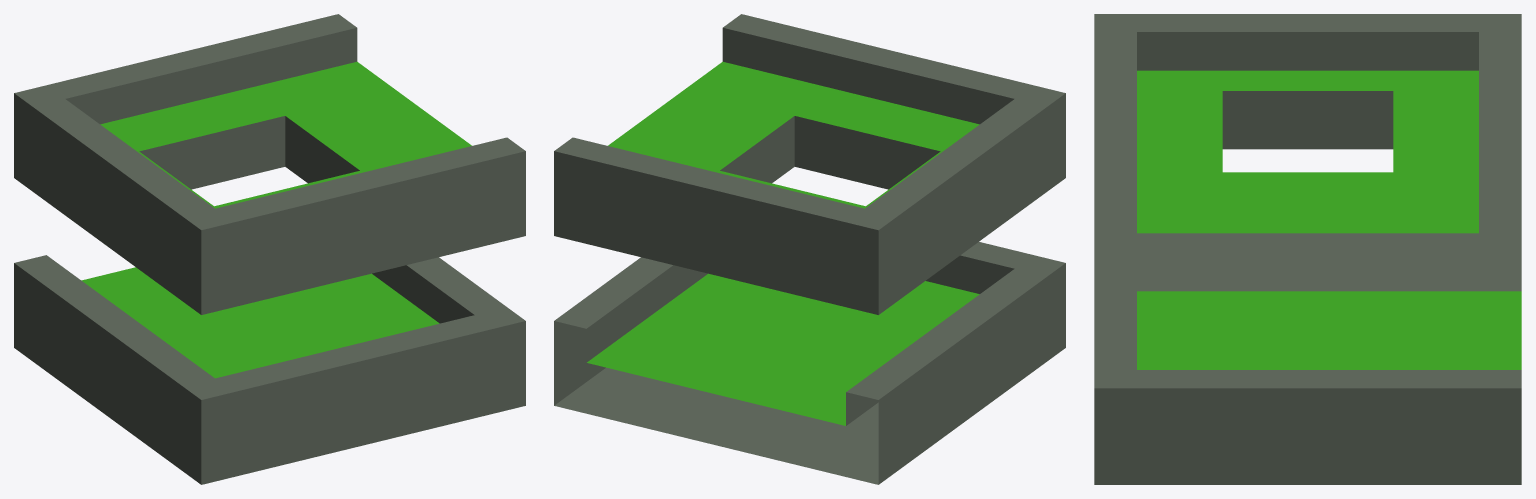
Rendered from EndDropR.fbx.
3 views of the same model, side by side, from view 1: azimuth 30°, elevation 25°; view 2: azimuth 150°, elevation 25°; view 3: azimuth 270°, elevation 25° (orthographic). The views are drawn at different scales.
Parts seen in each view (by area): view 1: Plane.012; view 2: Plane.012; view 3: Plane.012.
Part boxes in pixels (bbox=[...]): Plane.012: bbox=[14, 14, 525, 484]; Plane.012: bbox=[554, 14, 1065, 484]; Plane.012: bbox=[1094, 14, 1521, 484].
Bounding box in the file's own units: 200 × 150 × 200.
